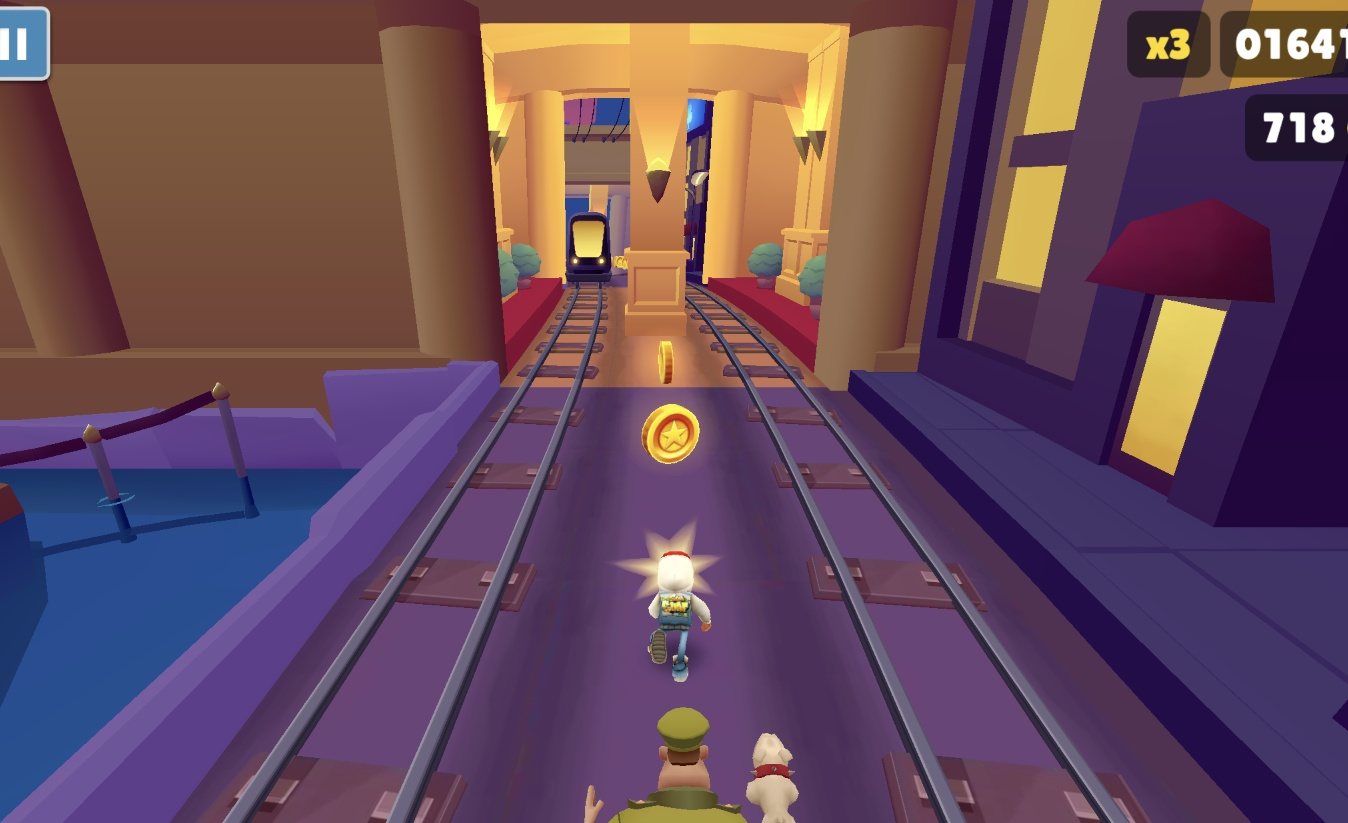pillar: (620, 27, 708, 383)
train: (559, 217, 623, 320)
